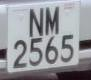2: (11, 37, 30, 73)
5: (27, 36, 46, 70), (60, 32, 76, 69)
6: (44, 33, 61, 70)
M: (44, 4, 61, 41)
N: (28, 5, 46, 42)
